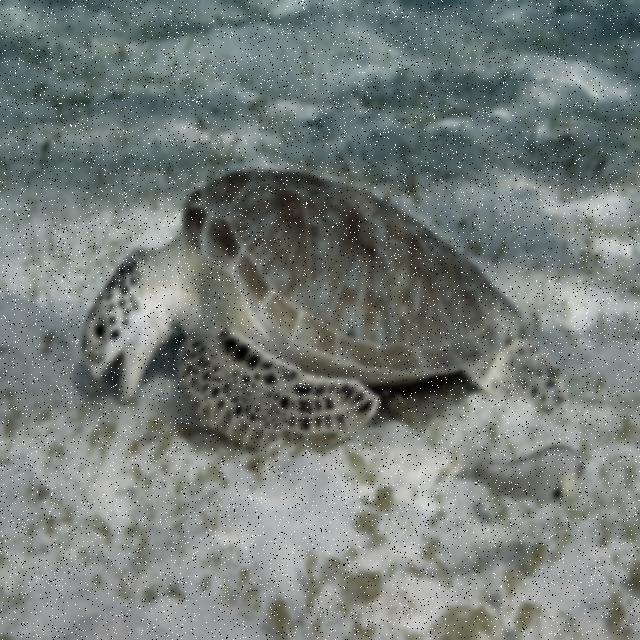tortoise: (76, 150, 526, 480)
